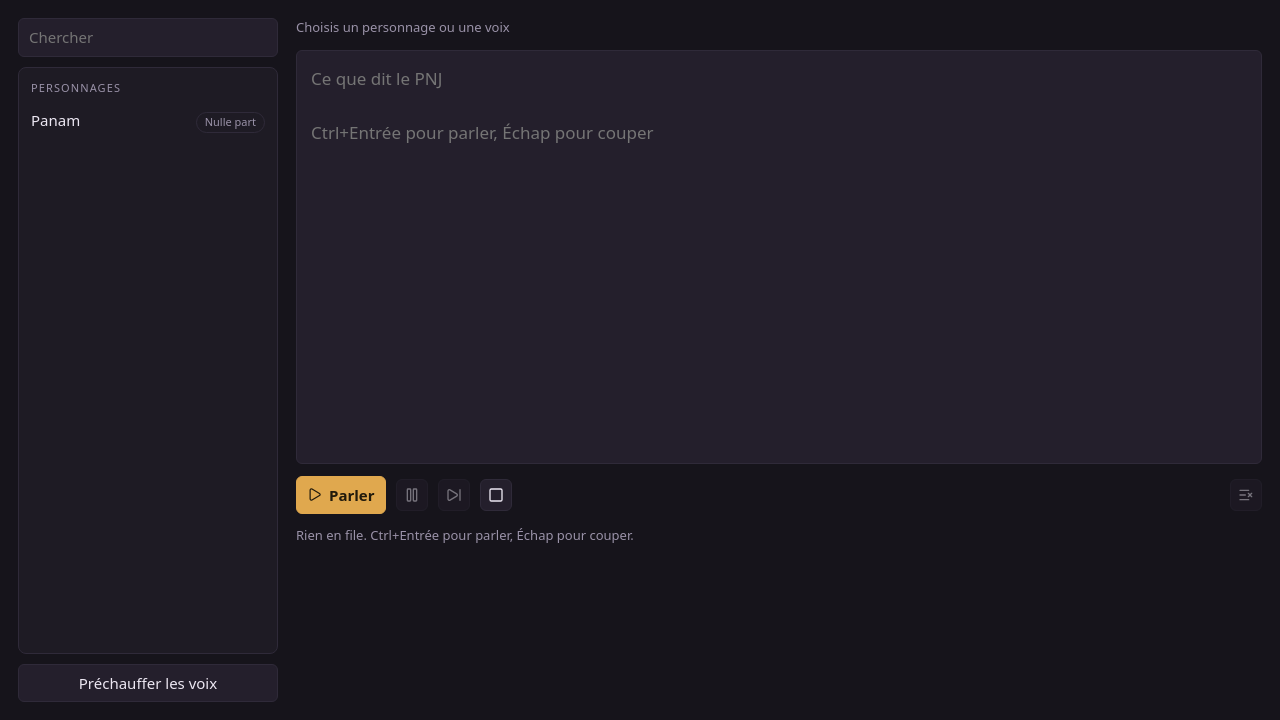
Test: choix de la cible › signale une fiche dont la voix a disparu du disque
The image size is (1280, 720).
Click the list item "Panam" at (56, 120), box [31,110,265,132]
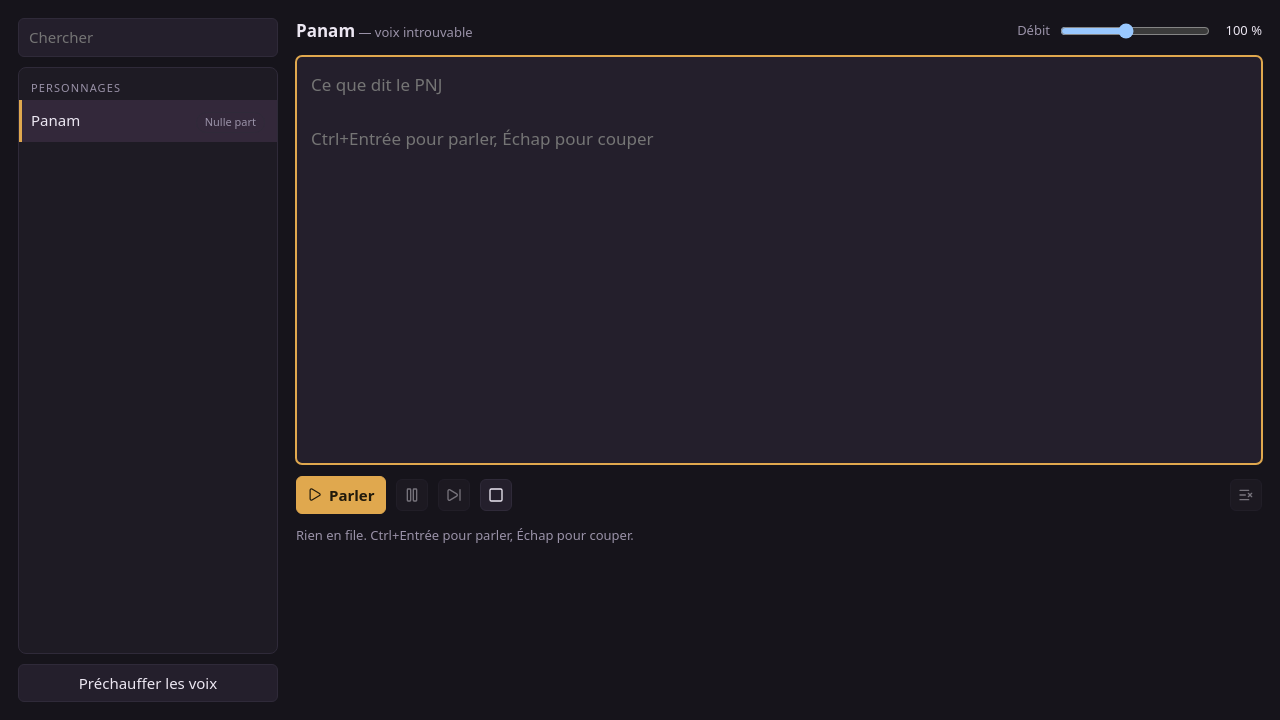
Check: the text "Panam — voix introuvable" is shown, box [296,18,473,44]
